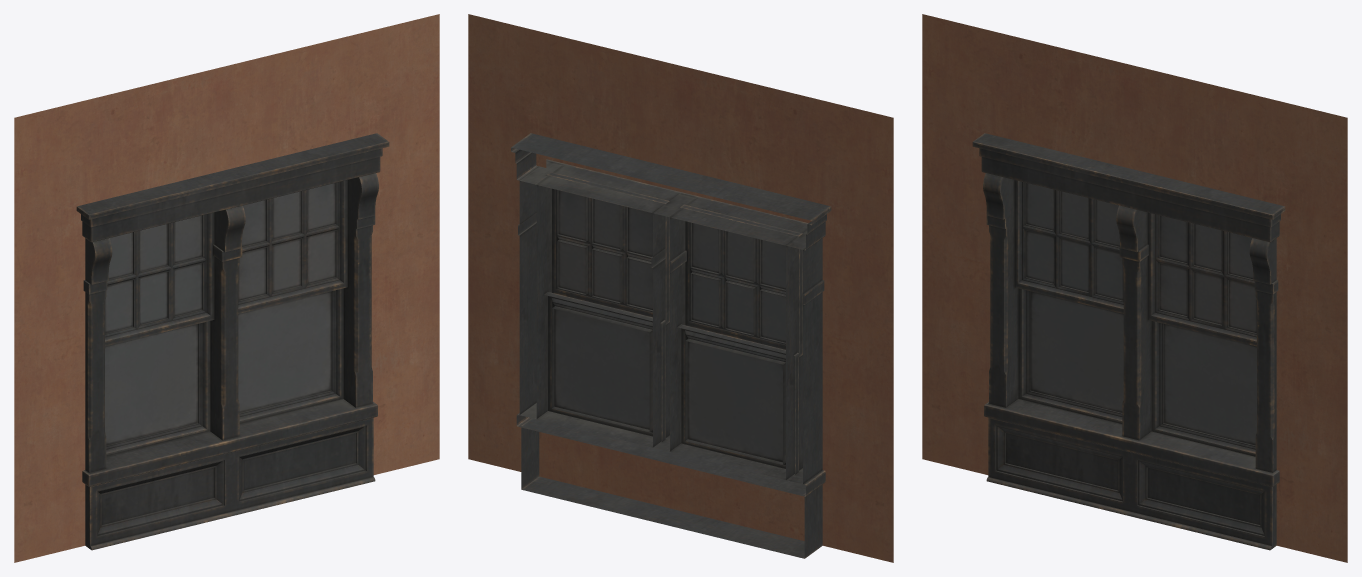
File: modular_urban_apartments_facade.glb
3 views of the same model, side by side, from view 1: azimuth 30°, elevation 25°; view 2: azimuth 150°, elevation 25°; view 3: azimuth 330°, elevation 25° (orthographic).
Parts seen in each view (by area): view 1: window_centered_large_01, wall_window_centered_large_01; view 2: wall_window_centered_large_01, window_centered_large_01; view 3: window_centered_large_01, wall_window_centered_large_01.
Part boxes in pixels (<box>): window_centered_large_01: <box>76,133,389,550</box>; wall_window_centered_large_01: <box>14,14,439,562</box>; wall_window_centered_large_01: <box>468,14,893,562</box>; window_centered_large_01: <box>511,133,831,558</box>; window_centered_large_01: <box>972,133,1285,550</box>; wall_window_centered_large_01: <box>922,14,1347,562</box>.
Bounding box in the file's own units: 3 × 3 × 0.39.
3 materials, 3 textured.
